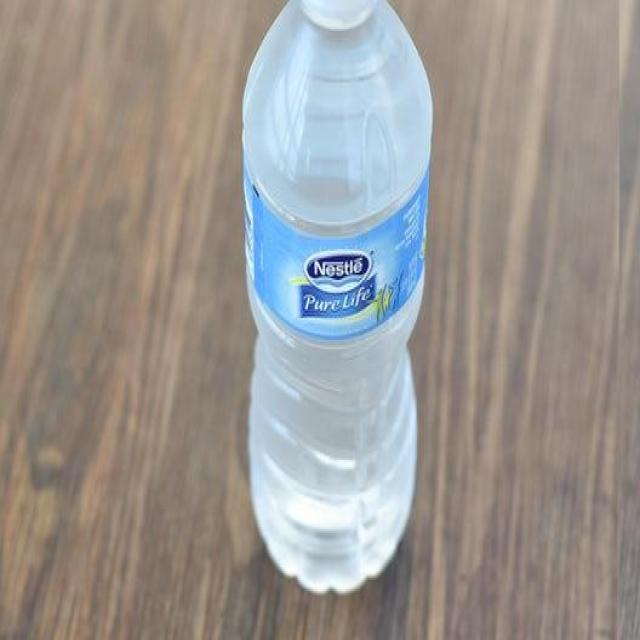bottle: (232, 0, 436, 609)
